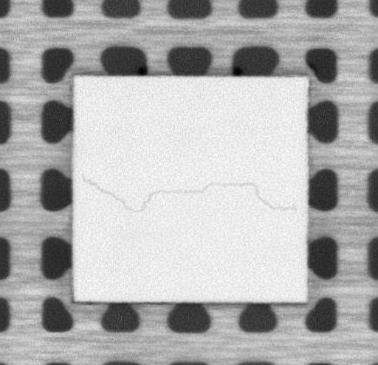DIE_CRACK: (82, 173, 297, 217)
